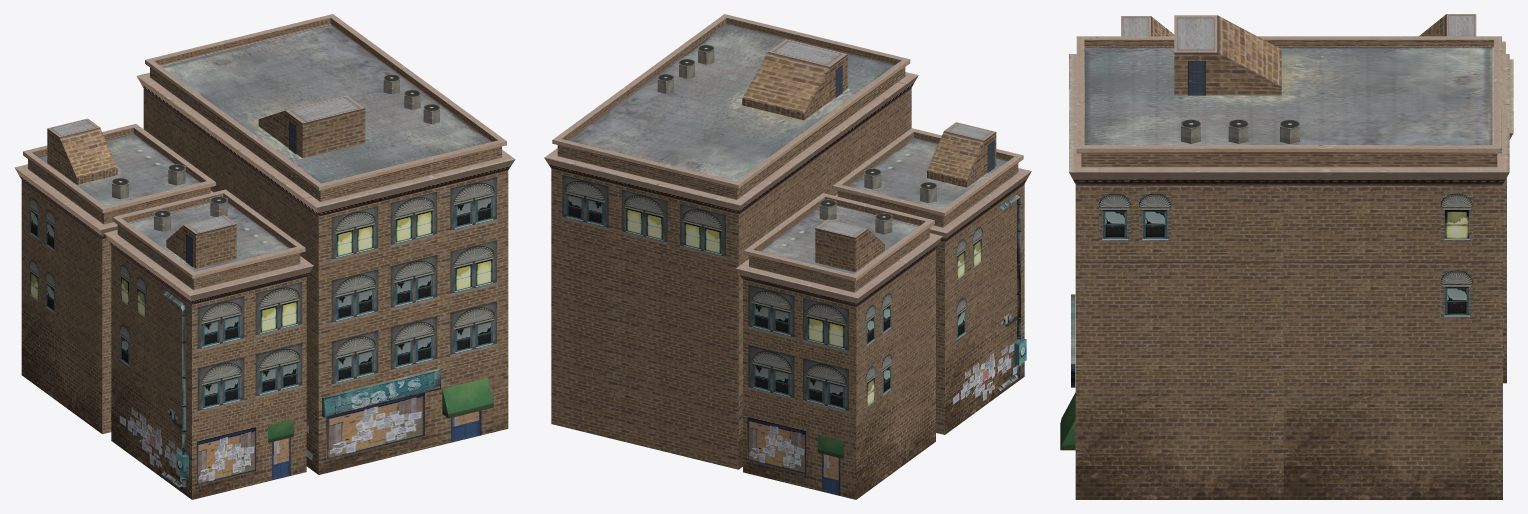
The model's file is Filler_Housing.glb.
3 views of the same model, side by side, from view 1: azimuth 30°, elevation 25°; view 2: azimuth 150°, elevation 25°; view 3: azimuth 270°, elevation 25° (orthographic). The views are drawn at different scales.
Parts seen in each view (by area): view 1: Model__FillerBuildings1; view 2: Model__FillerBuildings1; view 3: Model__FillerBuildings1.
Boxes of the visible parts, x1,y1,x2,y2 form: Model__FillerBuildings1: (14, 14, 515, 499); Model__FillerBuildings1: (544, 14, 1031, 499); Model__FillerBuildings1: (1060, 14, 1513, 499).
Size of the model in its own units: 7.85 by 7.41 by 7.88.
1 material, 1 textured.
